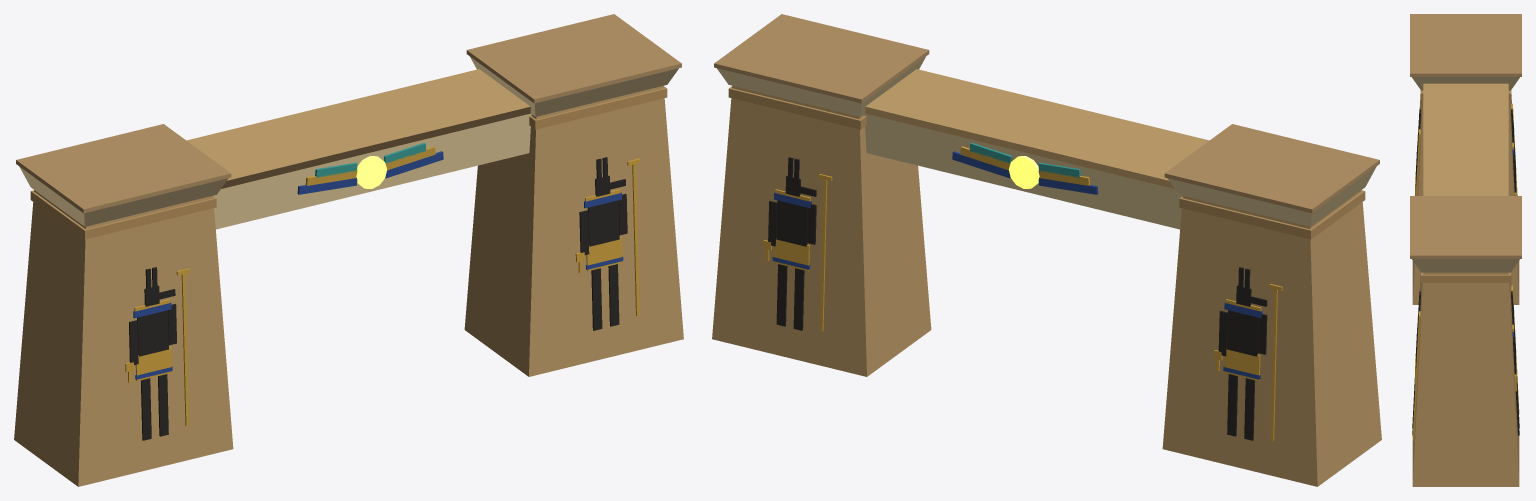
The model's file is desert_gateway.glb.
3 views of the same model, side by side, from view 1: azimuth 30°, elevation 25°; view 2: azimuth 150°, elevation 25°; view 3: azimuth 270°, elevation 25° (orthographic). The views are drawn at different scales.
Parts seen in each view (by area): view 1: desert_gateway; view 2: desert_gateway; view 3: desert_gateway.
Boxes of the visible parts, left/top/right/bottom form: desert_gateway: left=14, top=14, right=683, bottom=486; desert_gateway: left=712, top=14, right=1381, bottom=486; desert_gateway: left=1410, top=14, right=1521, bottom=486.
Size of the model in its own units: 25 by 10.96 by 4.83.
